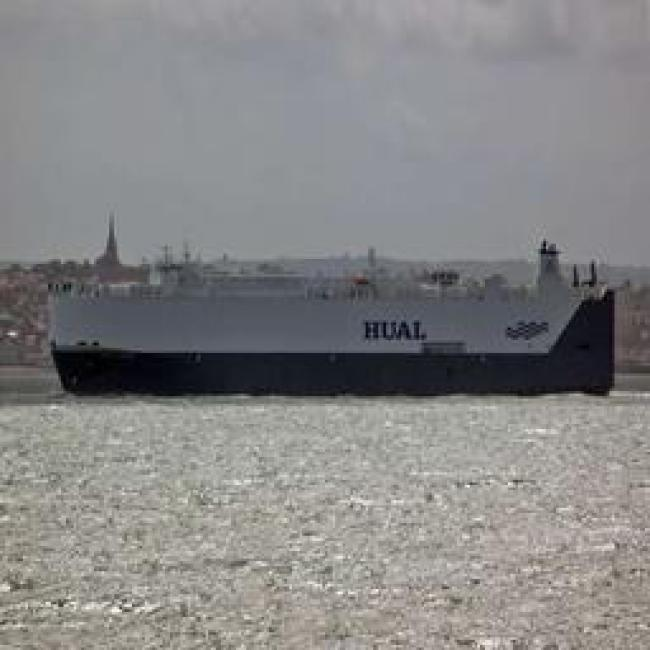Ship: (14, 268, 630, 411)
